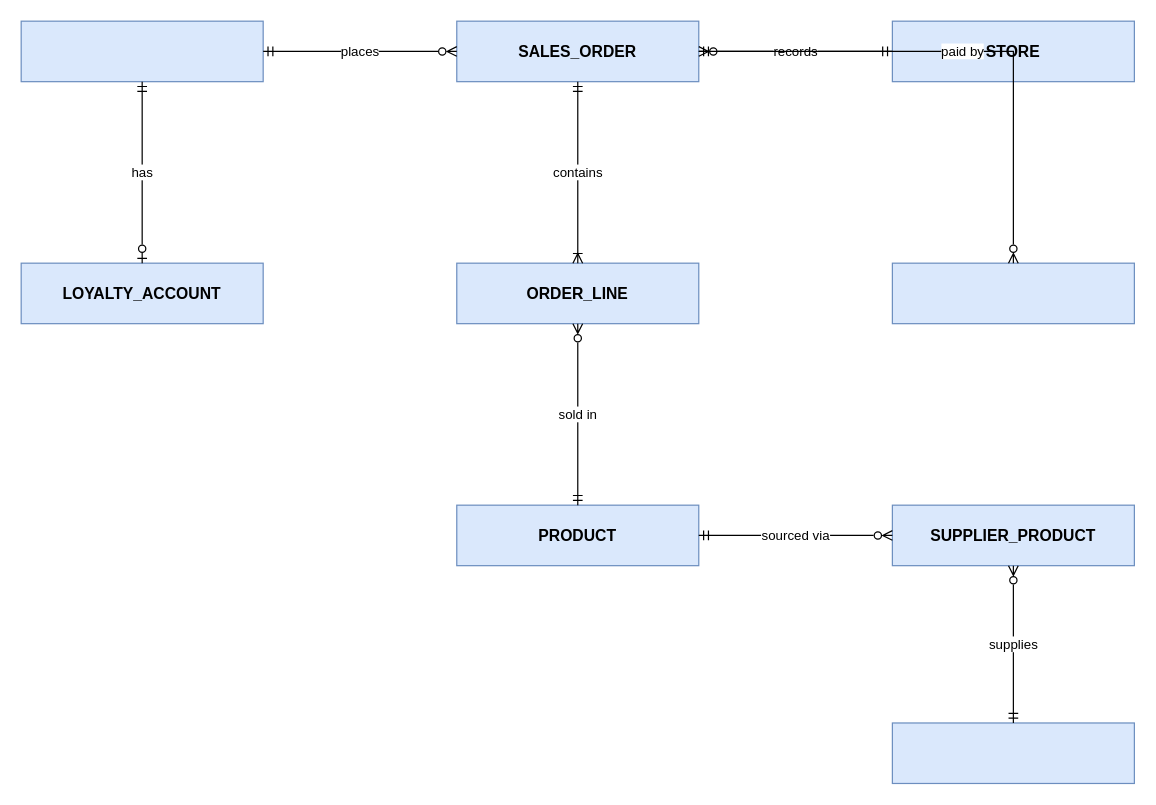
Image size: 1156x805. Some labels were removed from this diagram. The centre of each missing label's shape, as x and y in pixels:
"CUSTOMER" belongs at (141,51).
"PAYMENT" belongs at (1012,293).
"SUPPLIER" belongs at (1012,752).
